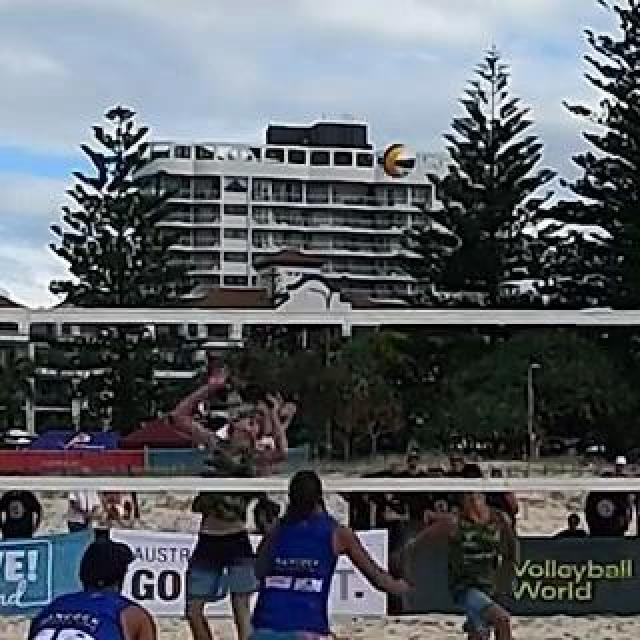volleyball: (385, 145, 415, 177)
